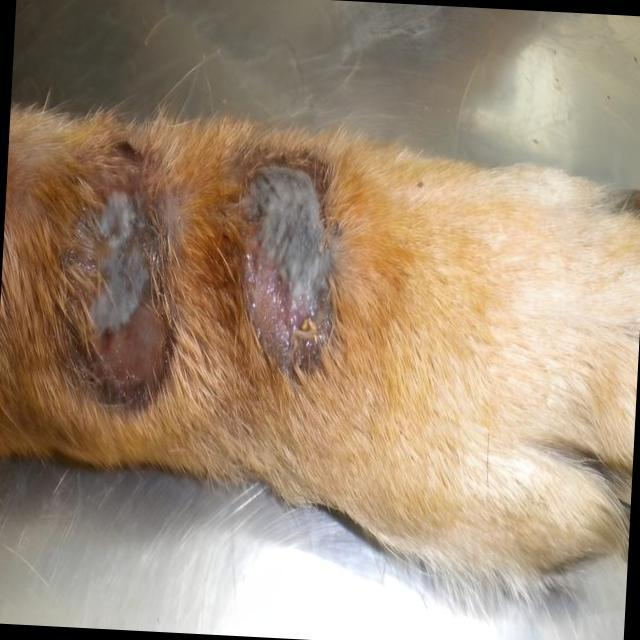allergic dermatitis: (30, 170, 179, 419), (218, 154, 376, 384)
